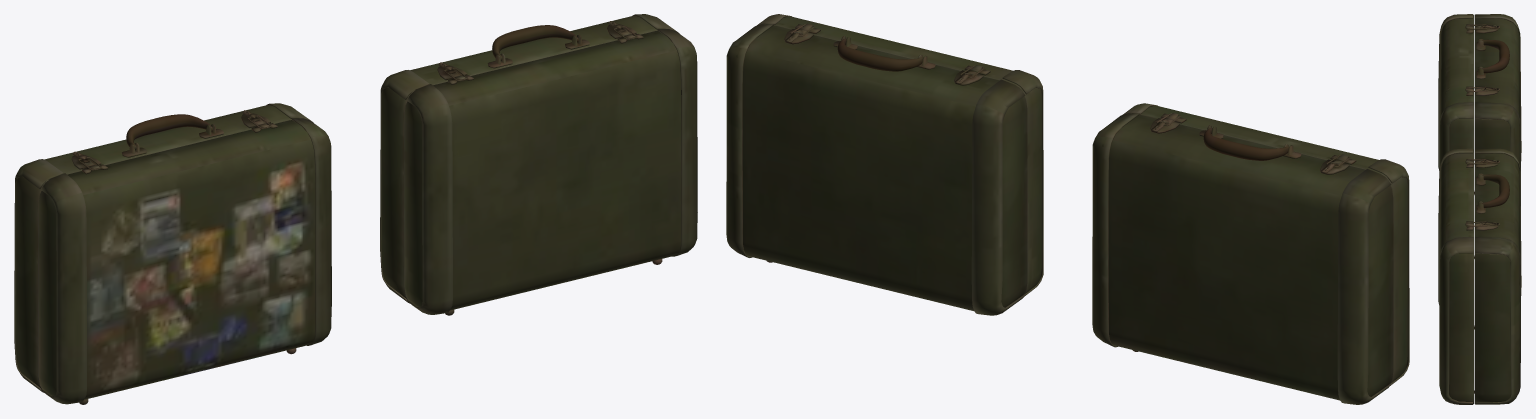
Rendered from suitcase.glb.
3 views of the same model, side by side, from view 1: azimuth 30°, elevation 25°; view 2: azimuth 150°, elevation 25°; view 3: azimuth 270°, elevation 25° (orthographic). The views are drawn at different scales.
Visible parts, largest first — view 1: vintage_suitcase_01_top, vintage_suitcase_02_top, vintage_suitcase_01_bottom, vintage_suitcase_02_bottom, vintage_suitcase_01_handle, vintage_suitcase_02_handle; view 2: vintage_suitcase_01_bottom, vintage_suitcase_02_bottom, vintage_suitcase_02_top, vintage_suitcase_01_top, vintage_suitcase_02_handle, vintage_suitcase_01_handle; view 3: vintage_suitcase_01_bottom, vintage_suitcase_01_top, vintage_suitcase_02_bottom, vintage_suitcase_02_top, vintage_suitcase_01_handle, vintage_suitcase_02_handle, vintage_suitcase_01_clasp, vintage_suitcase_02_clasp.
Part boxes in pixels (bbox=[...]): vintage_suitcase_01_top: bbox=[404, 29, 697, 315]; vintage_suitcase_02_top: bbox=[38, 118, 331, 404]; vintage_suitcase_01_bottom: bbox=[380, 14, 679, 303]; vintage_suitcase_02_bottom: bbox=[14, 103, 313, 392]; vintage_suitcase_01_handle: bbox=[492, 25, 578, 60]; vintage_suitcase_02_handle: bbox=[126, 114, 212, 150]; vintage_suitcase_01_bottom: bbox=[726, 24, 1027, 315]; vintage_suitcase_02_bottom: bbox=[1092, 113, 1393, 404]; vintage_suitcase_02_top: bbox=[1122, 103, 1409, 385]; vintage_suitcase_01_top: bbox=[756, 14, 1043, 296]; vintage_suitcase_02_handle: bbox=[1203, 128, 1289, 160]; vintage_suitcase_01_handle: bbox=[837, 38, 923, 71]; vintage_suitcase_01_bottom: bbox=[1474, 148, 1521, 404]; vintage_suitcase_01_top: bbox=[1438, 148, 1474, 404]; vintage_suitcase_02_bottom: bbox=[1474, 14, 1521, 258]; vintage_suitcase_02_top: bbox=[1438, 14, 1474, 258]; vintage_suitcase_01_handle: bbox=[1482, 174, 1509, 207]; vintage_suitcase_02_handle: bbox=[1482, 39, 1509, 73]; vintage_suitcase_01_clasp: bbox=[1465, 159, 1487, 226]; vintage_suitcase_02_clasp: bbox=[1465, 24, 1487, 91].
Bounding box in the file's own units: 1.61 × 0.5679 × 0.2387.
2 materials, 2 textured.
